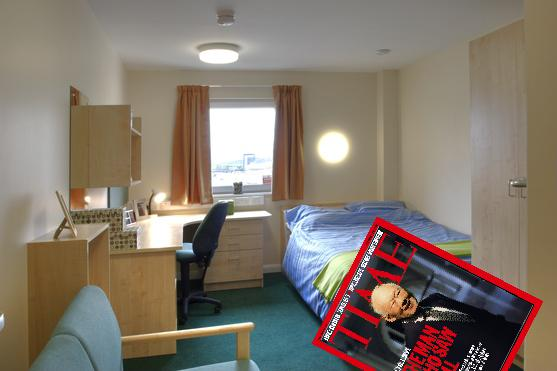times: (310, 215, 542, 371)
